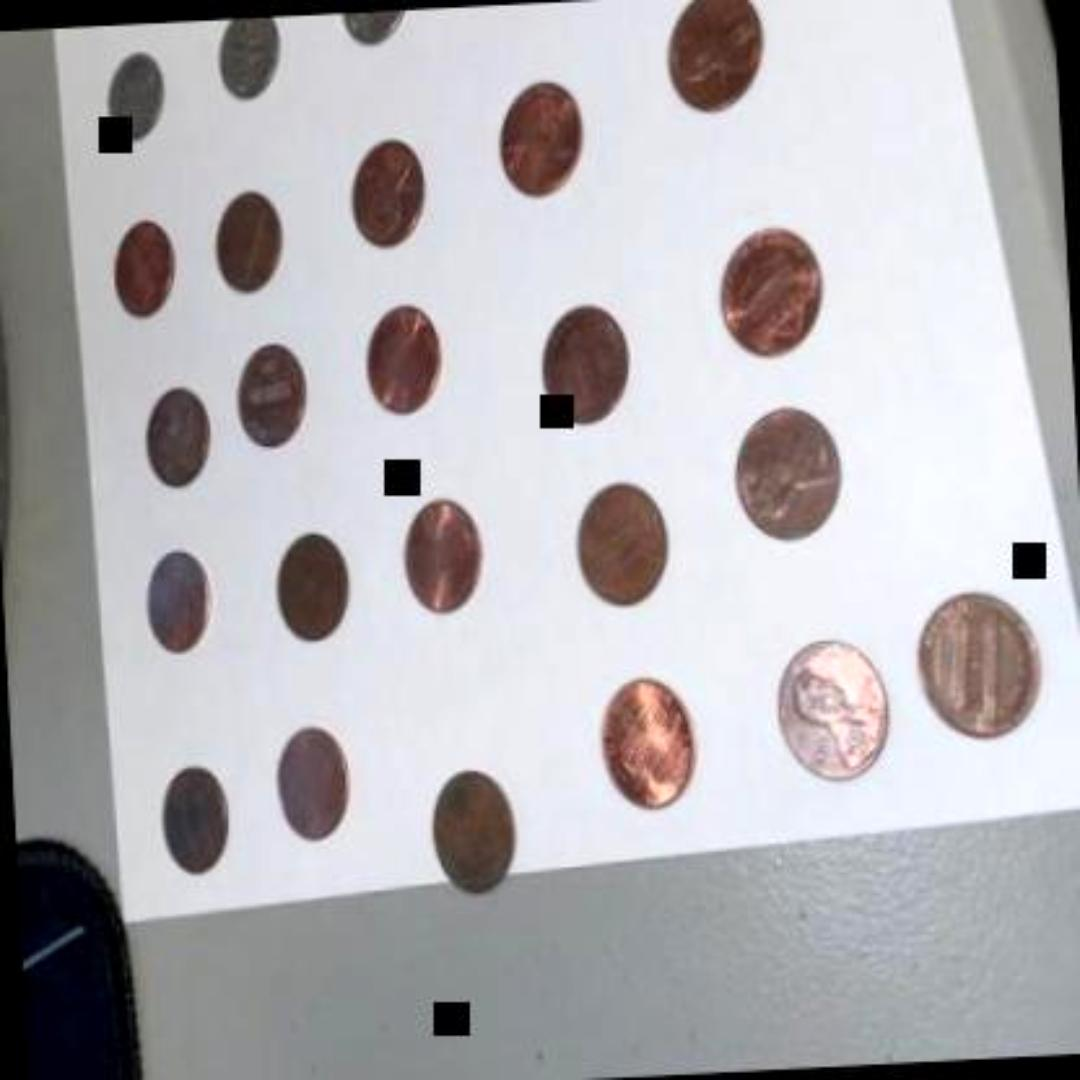Dime: (100, 41, 168, 152), (210, 13, 286, 103)
Penny: (906, 586, 1042, 746), (774, 636, 892, 791), (726, 402, 842, 542), (590, 668, 698, 814), (709, 223, 823, 360), (530, 294, 628, 426), (491, 73, 587, 205), (574, 478, 670, 610), (269, 716, 354, 852), (664, 0, 763, 114), (429, 768, 515, 898), (400, 494, 490, 616), (264, 524, 348, 650), (340, 132, 424, 252), (360, 300, 442, 422), (139, 538, 216, 662), (154, 755, 230, 871), (230, 341, 310, 451), (105, 212, 177, 318), (209, 188, 281, 290), (146, 388, 214, 494)
